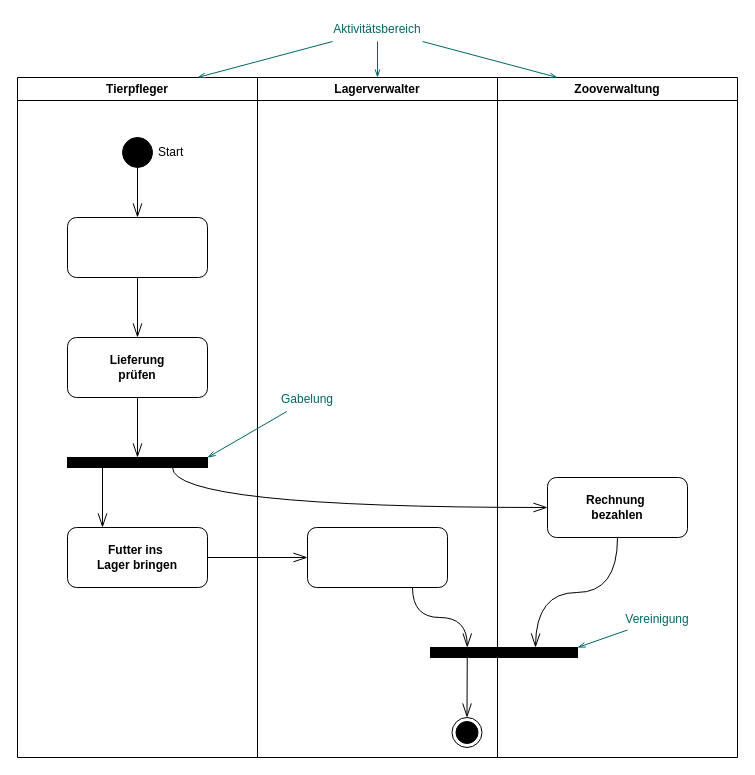
Image size: 755x775. Some labels were removed from this diagram. Each missing label, with the centre of its shape:
bestelltes Futter annehmen: the point at 137,247
Ende: the point at 466,732
Futter verstauen: the point at 377,557
